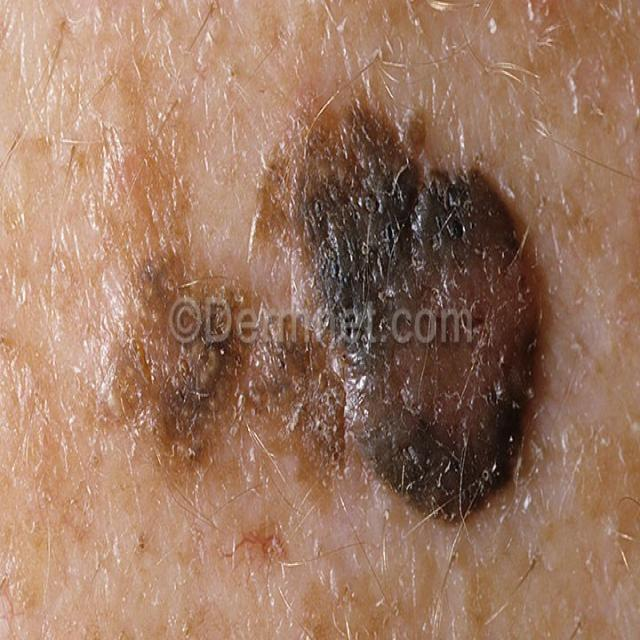Eczema: (88, 107, 548, 515)
